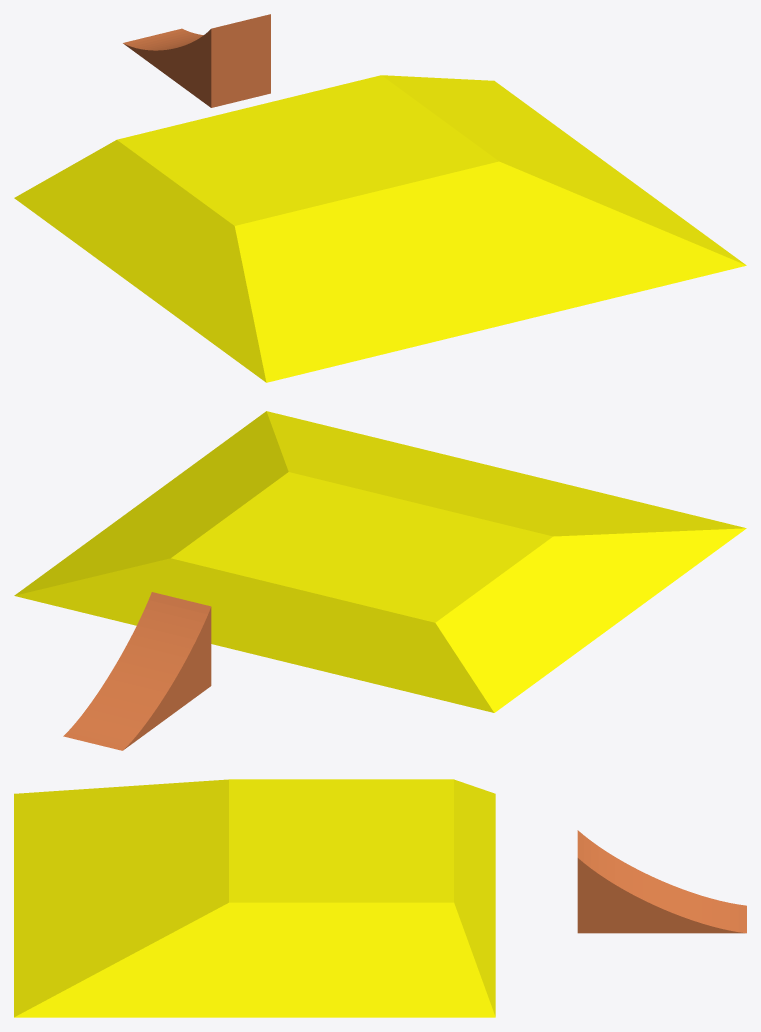
Rendered from testCurvePlane.glb.
The picture shows the model from 3 angles, top to bottom: view 1: azimuth 30°, elevation 25°; view 2: azimuth 150°, elevation 25°; view 3: azimuth 270°, elevation 25°; orthographic projection. The views are drawn at different scales.
Visible parts, largest first — view 1: 立方体.002, 立方体; view 2: 立方体.002, 立方体; view 3: 立方体.002, 立方体.
Boxes of the visible parts, x1=… form: 立方体.002: x1=14, y1=75, x2=746, y2=382; 立方体: x1=123, y1=14, x2=270, y2=107; 立方体.002: x1=14, y1=411, x2=746, y2=712; 立方体: x1=63, y1=592, x2=211, y2=750; 立方体.002: x1=14, y1=779, x2=495, y2=1017; 立方体: x1=577, y1=830, x2=746, y2=933.
Size of the model in its own units: 89 by 14.07 by 123.
